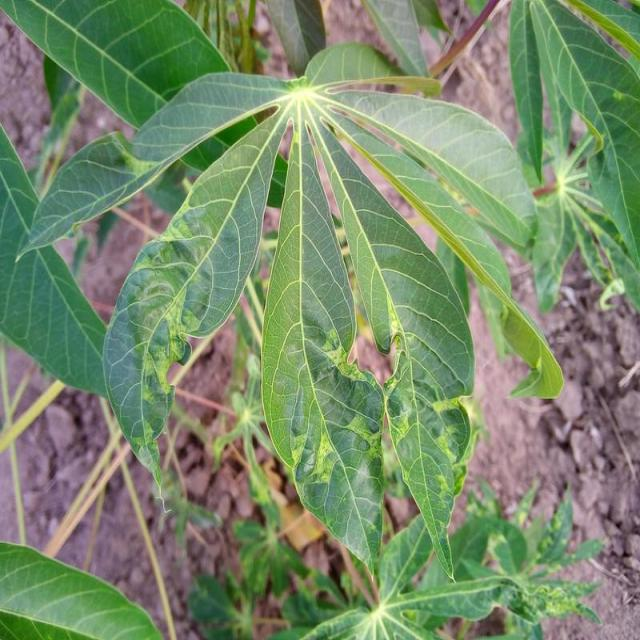cassava leaf: (100, 41, 561, 586), (101, 98, 291, 510), (259, 108, 386, 582), (0, 120, 110, 398), (0, 540, 163, 638)
